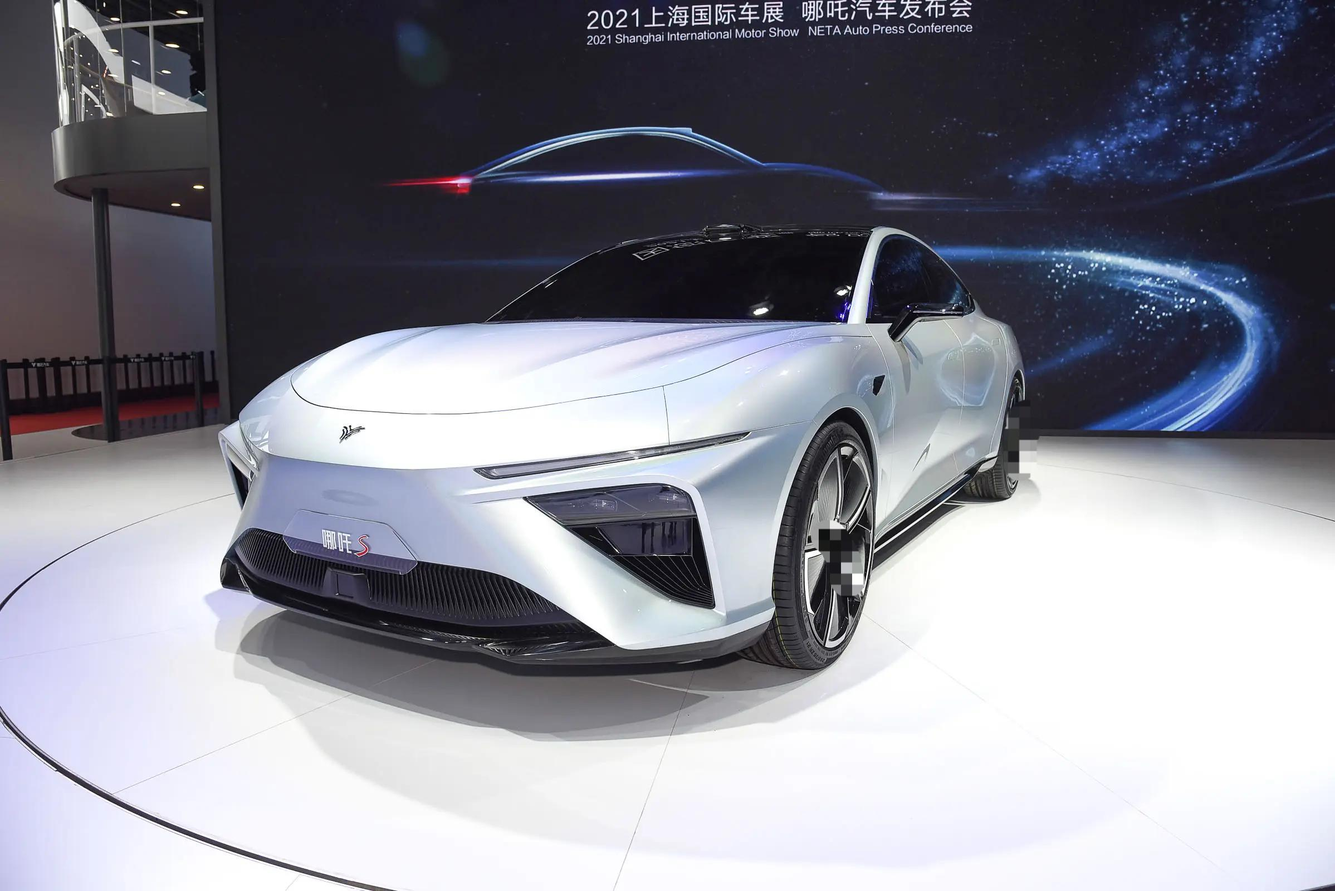NETA: (338, 424, 365, 447)
